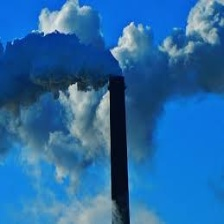smoke: (8, 34, 112, 103)
